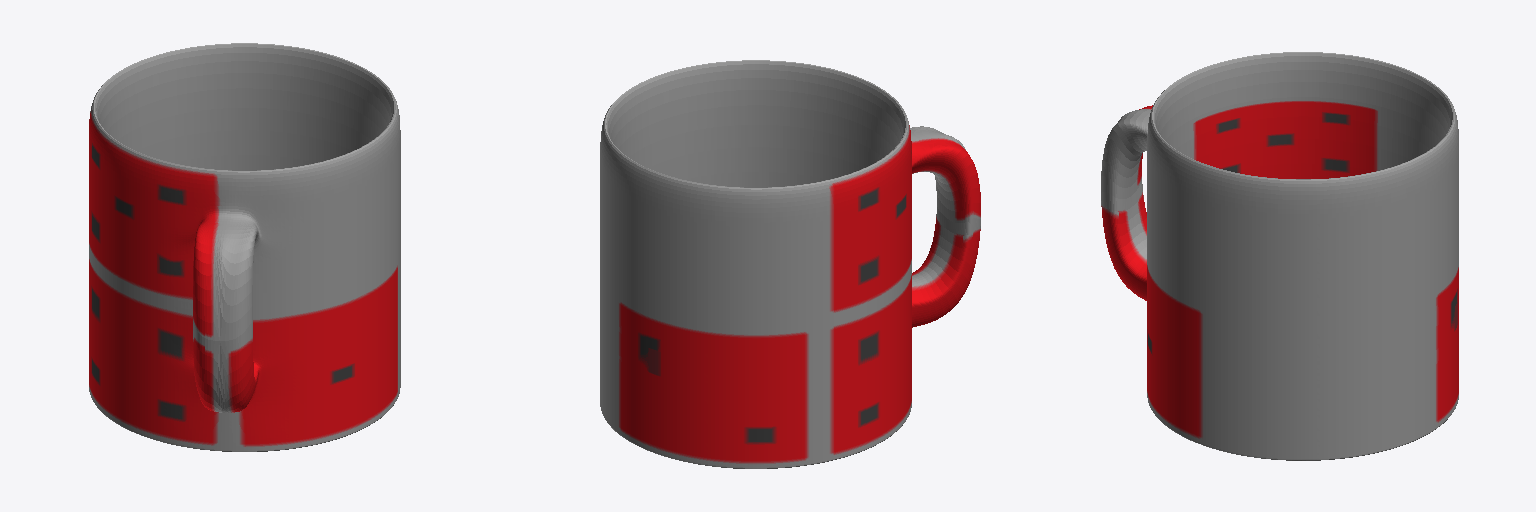
3 renders of one model, left to right at view 1: azimuth 30°, elevation 25°; view 2: azimuth 150°, elevation 25°; view 3: azimuth 270°, elevation 25°, orthographic.
Parts seen in each view (by area): view 1: tea_mug; view 2: tea_mug; view 3: tea_mug.
Part boxes in pixels (bbox=[...]): tea_mug: bbox=[89, 43, 400, 451]; tea_mug: bbox=[600, 60, 980, 468]; tea_mug: bbox=[1101, 52, 1458, 460].
Bounding box in the file's own units: 1.99 × 1.97 × 2.28.
Materials: 1 (1 with a texture image).